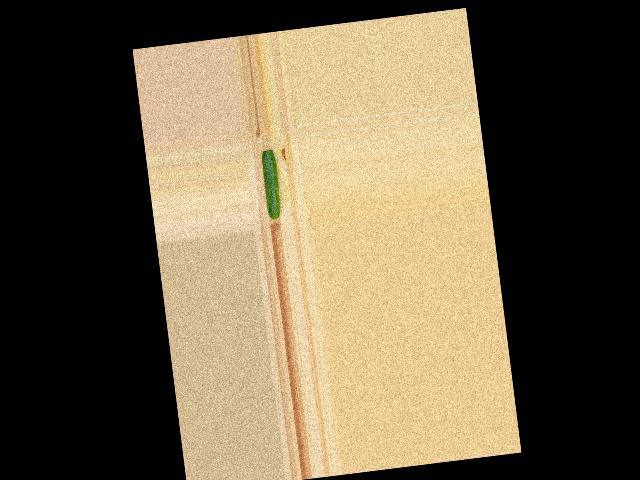cucumber: (260, 149, 282, 220)
